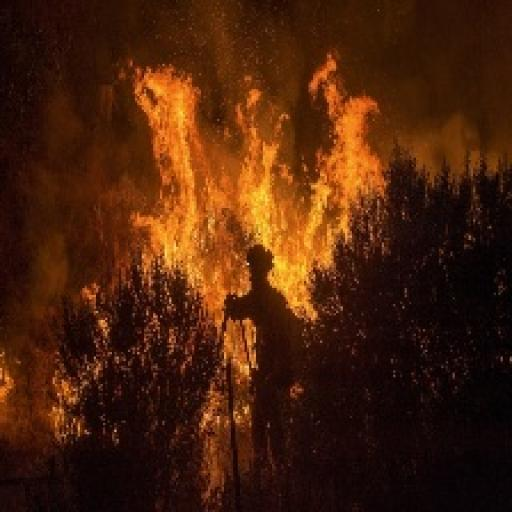fire and smoke: (135, 55, 379, 313)
